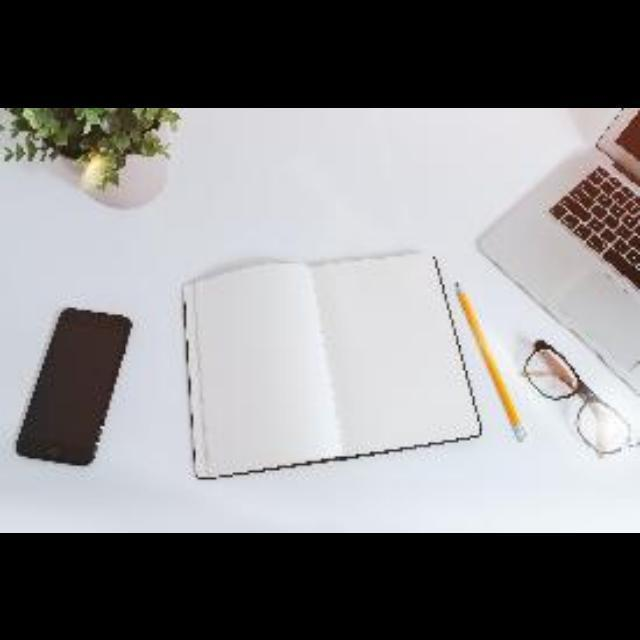PhoneUse: (15, 310, 129, 468)
